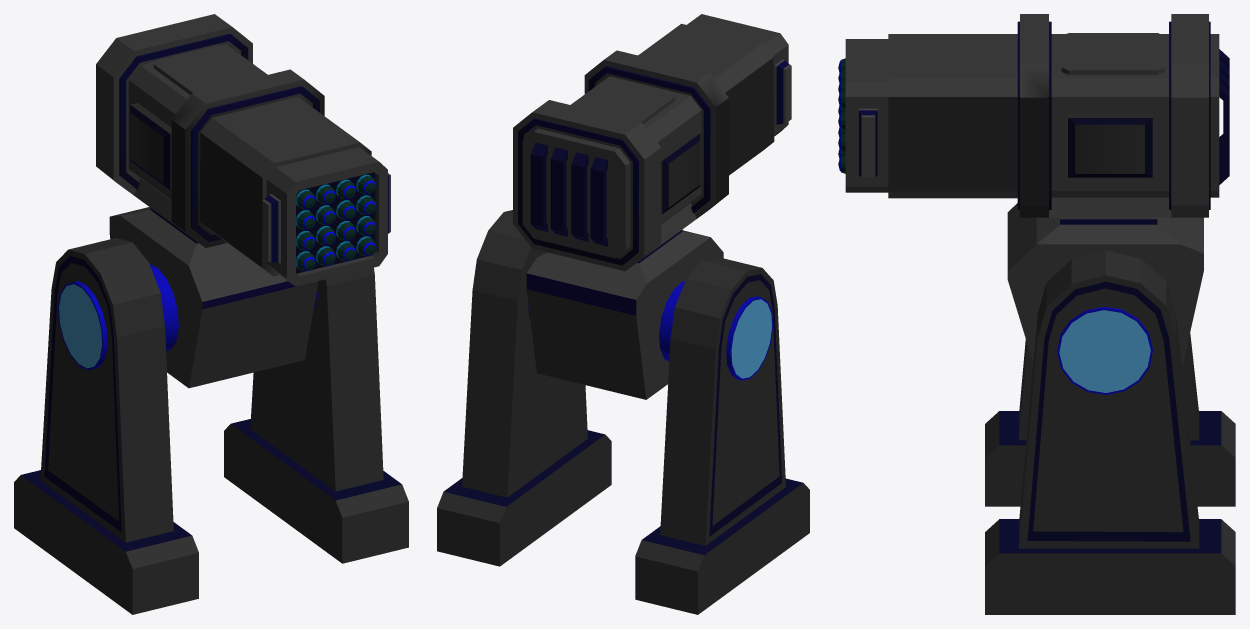
File: Rocket.FBX
3 renders of one model, left to right at view 1: azimuth 30°, elevation 25°; view 2: azimuth 150°, elevation 25°; view 3: azimuth 270°, elevation 25°, orthographic. The views are drawn at different scales.
Visible parts, largest first — view 1: Base, Head; view 2: Base, Head; view 3: Base, Head.
Boxes of the visible parts, <box> form: Base: <box>14,207,408,614</box>; Head: <box>96,14,390,286</box>; Base: <box>437,210,809,614</box>; Head: <box>513,14,791,271</box>; Base: <box>985,203,1235,614</box>; Head: <box>838,14,1229,217</box>.
Bounding box in the file's own units: 225 × 371 × 265.
